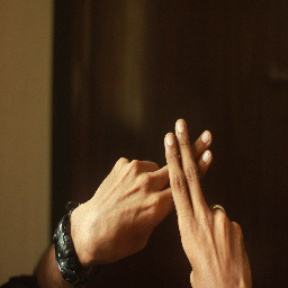F: (132, 107, 233, 235)
